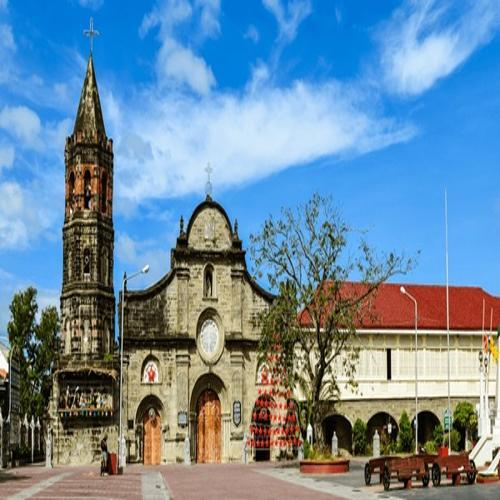Barasoain Church: (40, 13, 294, 474)
